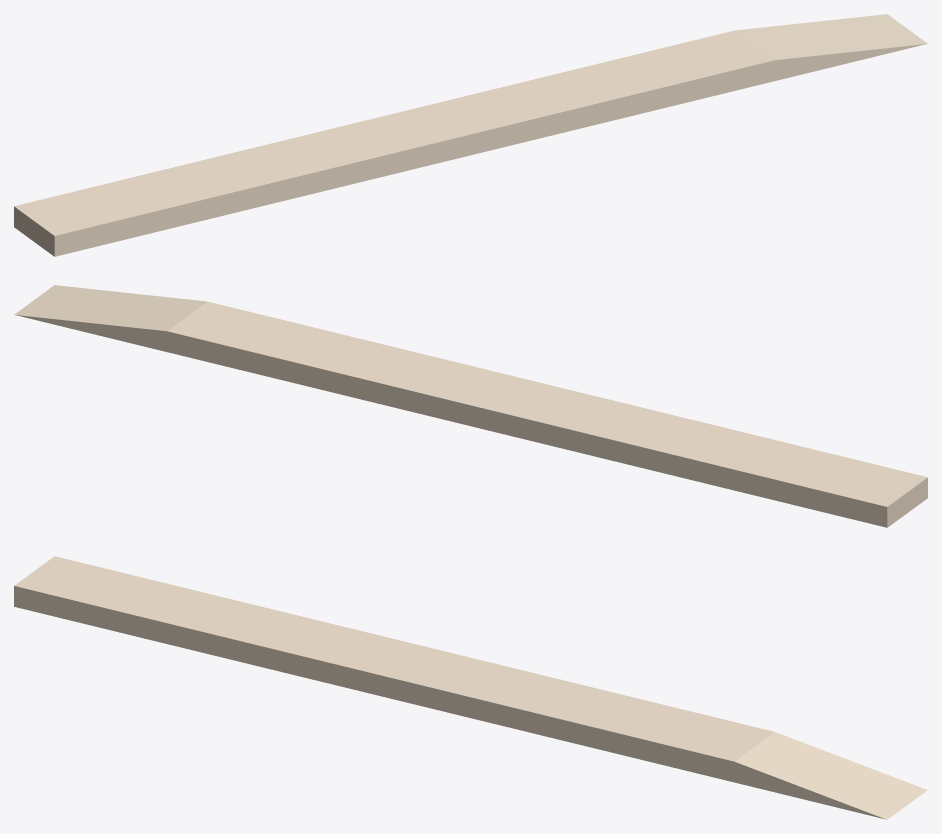
The model's file is plancher pc.glb.
3 views of the same model, one above another, from view 1: azimuth 30°, elevation 25°; view 2: azimuth 150°, elevation 25°; view 3: azimuth 330°, elevation 25° (orthographic).
Visible parts, largest first — view 1: Part 1; view 2: Part 1; view 3: Part 1.
Part boxes in pixels (x1,y1,x2,y2): Part 1: (14, 14, 927, 256); Part 1: (14, 285, 927, 527); Part 1: (14, 556, 927, 819).
Bounding box in the file's own units: 13.13 × 0.3 × 1.06.
